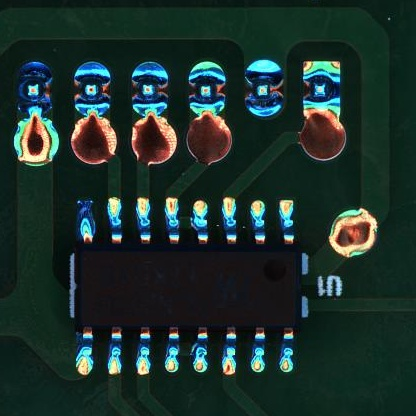spot: (13, 63, 55, 114), (245, 60, 282, 117), (187, 60, 226, 114), (304, 60, 340, 118), (74, 62, 111, 115), (132, 62, 168, 115)
